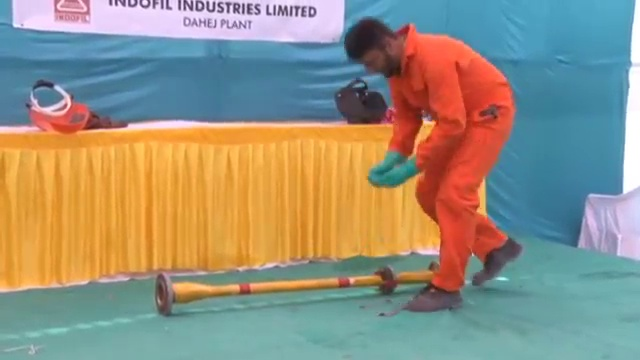helmet_off: (342, 14, 403, 79)
person: (333, 12, 525, 309)
